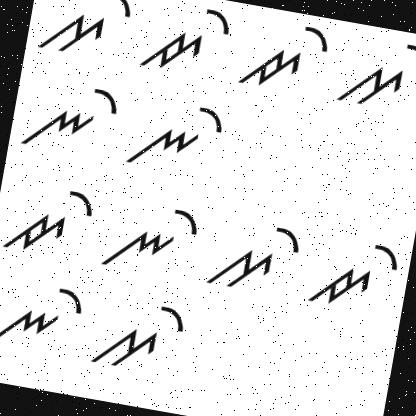jay: (302, 224, 406, 321), (233, 9, 337, 104), (0, 168, 99, 266), (134, 0, 235, 85)
nyay: (18, 66, 126, 168), (121, 88, 232, 183), (100, 190, 202, 284), (0, 272, 88, 360)
say: (85, 288, 193, 383), (199, 206, 304, 303), (336, 30, 416, 116), (36, 0, 133, 68)
